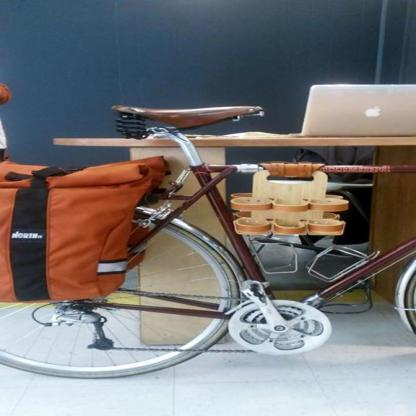board: (285, 82, 408, 140)
